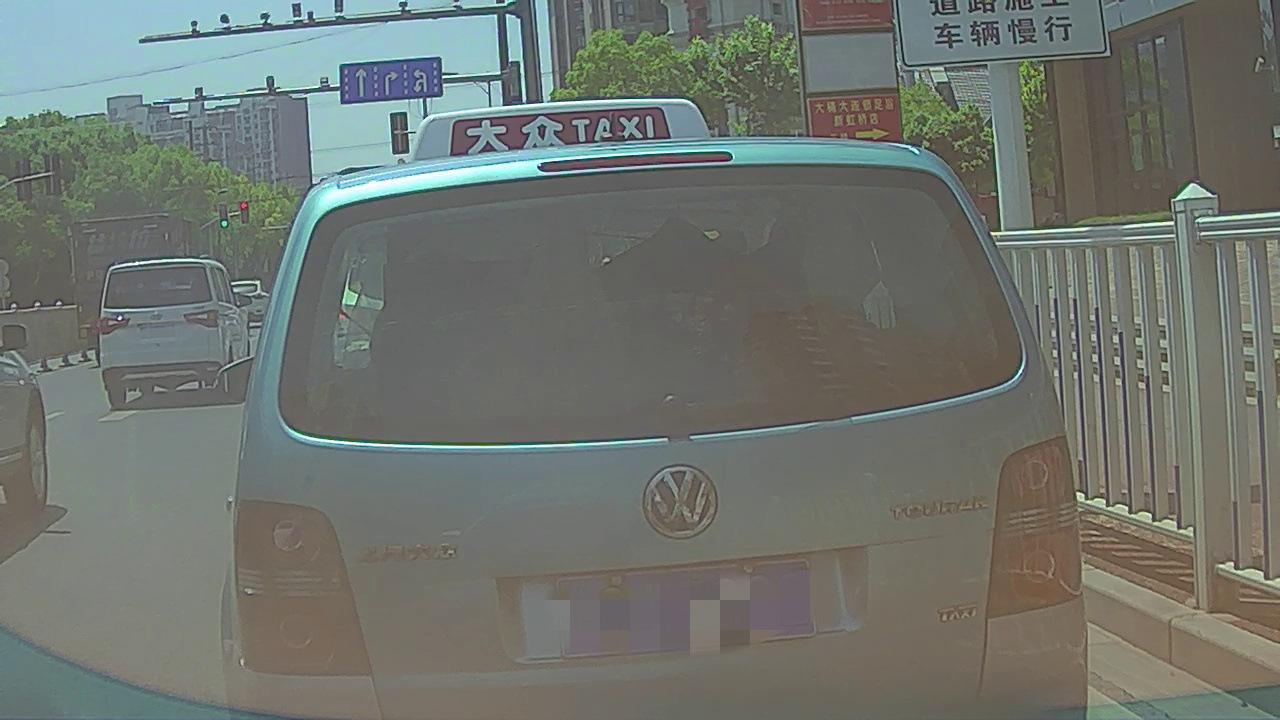traffic_light: (220, 203, 228, 227), (241, 201, 248, 223)
